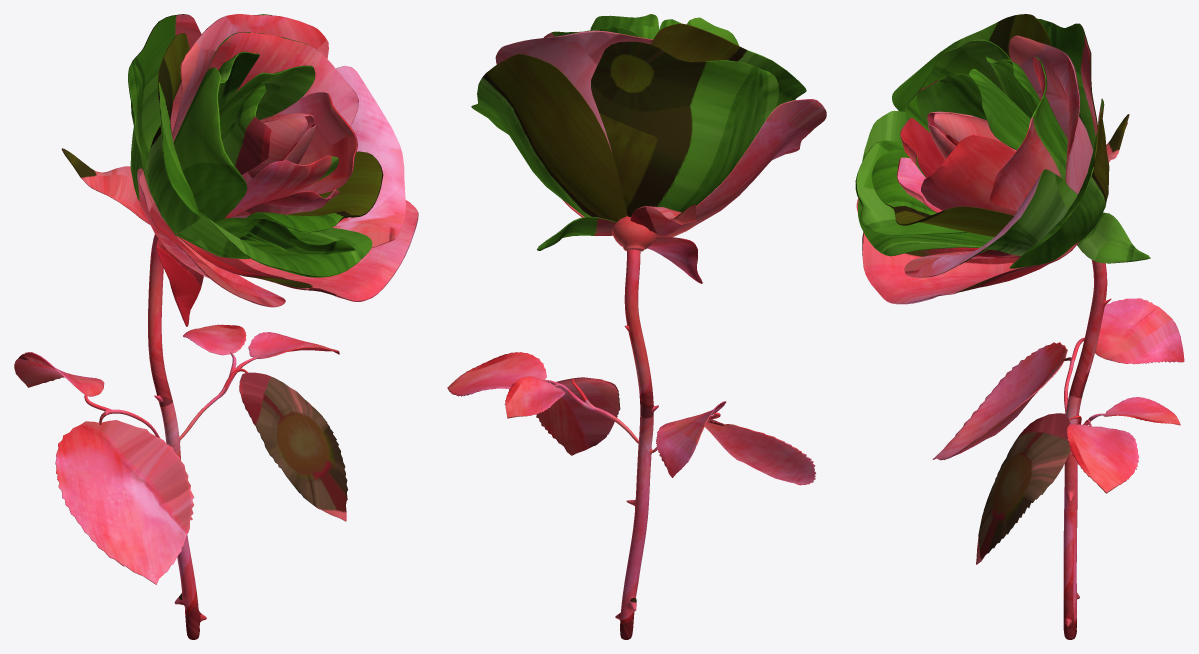
The model's file is Rose.gltf.
3 renders of one model, left to right at view 1: azimuth 30°, elevation 25°; view 2: azimuth 150°, elevation 25°; view 3: azimuth 270°, elevation 25°, orthographic. The views are drawn at different scales.
Visible parts, largest first — view 1: rose1; view 2: rose1; view 3: rose1.
Boxes of the visible parts, bbox=[...] form: rose1: bbox=[14, 14, 418, 639]; rose1: bbox=[447, 14, 826, 639]; rose1: bbox=[855, 14, 1184, 639].
Bounding box in the file's own units: 0.0189 × 0.0342 × 0.0168.
